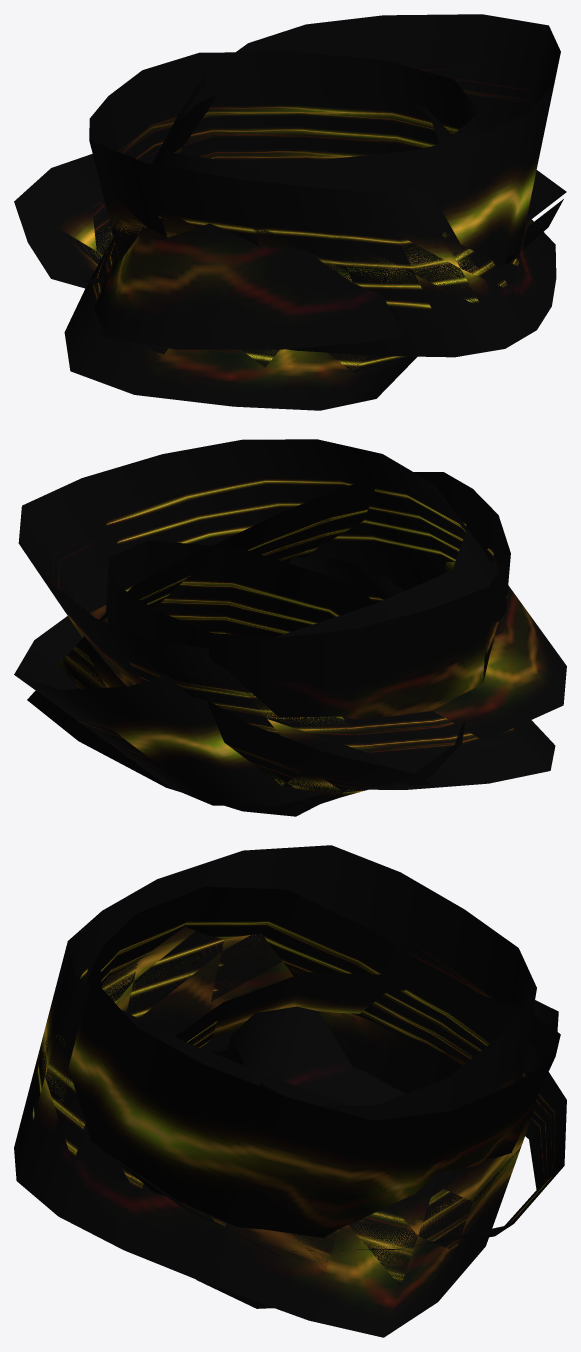
File: effect_diaochan_4_self.FBX
The picture shows the model from 3 angles, top to bottom: view 1: azimuth 30°, elevation 25°; view 2: azimuth 150°, elevation 25°; view 3: azimuth 270°, elevation 25°; orthographic projection. The views are drawn at different scales.
Visible parts, largest first — view 1: effect_diaochan_4_self_2_2, effect_diaochan_4_self_2_1, effect_diaochan_4_self_1_1, effect_diaochan_4_self_1_2; view 2: effect_diaochan_4_self_2_2, effect_diaochan_4_self_2_1, effect_diaochan_4_self_1_2, effect_diaochan_4_self_1_1; view 3: effect_diaochan_4_self_2_1, effect_diaochan_4_self_2_2, effect_diaochan_4_self_1_1, effect_diaochan_4_self_1_2.
Boxes of the visible parts, x1,y1,x2,y2 form: effect_diaochan_4_self_2_2: (64, 14, 566, 410); effect_diaochan_4_self_2_1: (14, 51, 556, 357); effect_diaochan_4_self_1_1: (56, 96, 523, 315); effect_diaochan_4_self_1_2: (90, 61, 546, 372); effect_diaochan_4_self_2_2: (14, 439, 566, 805); effect_diaochan_4_self_2_1: (27, 472, 510, 816); effect_diaochan_4_self_1_2: (43, 475, 520, 776); effect_diaochan_4_self_1_1: (62, 506, 507, 804); effect_diaochan_4_self_2_1: (14, 845, 558, 1337); effect_diaochan_4_self_2_2: (68, 886, 566, 1256); effect_diaochan_4_self_1_1: (31, 895, 520, 1285); effect_diaochan_4_self_1_2: (101, 916, 557, 1251).
Size of the model in its own units: 172 by 82.2 by 143.
Materials: 1 (1 with a texture image).
